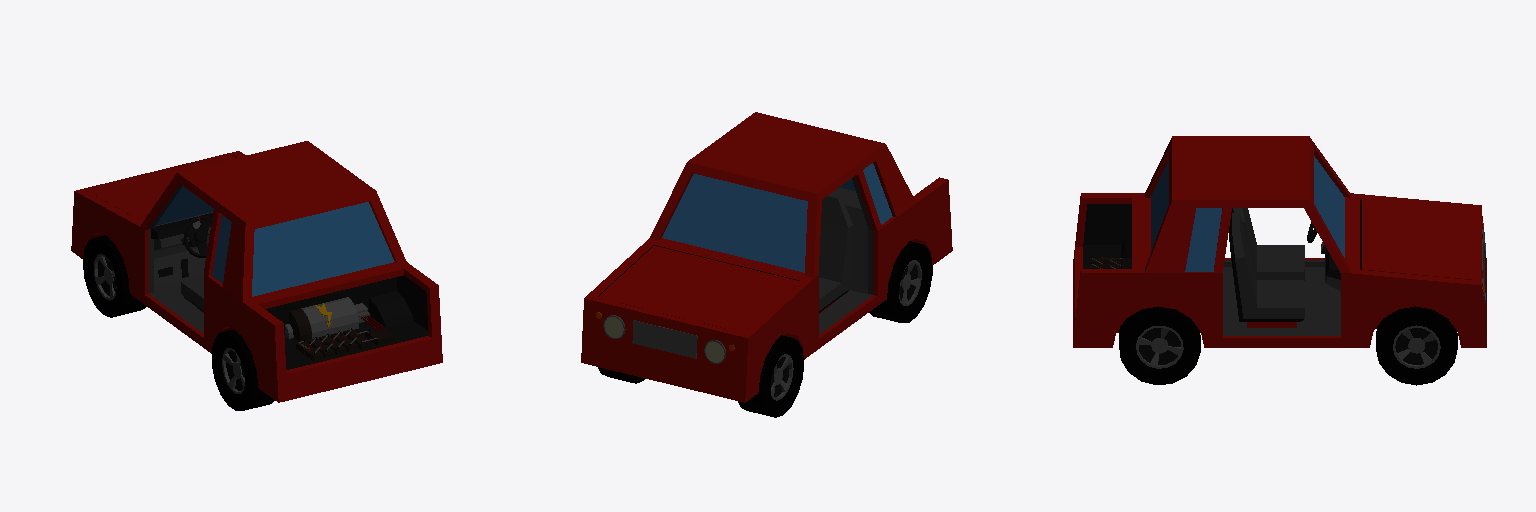
Rendered from car_better.obj.
3 renders of one model, left to right at view 1: azimuth 30°, elevation 25°; view 2: azimuth 150°, elevation 25°; view 3: azimuth 270°, elevation 25°, orthographic.
Visible parts, largest first — view 1: car-normal-red_Cube.623; view 2: car-normal-red_Cube.623; view 3: car-normal-red_Cube.623.
Part boxes in pixels (x1,y1,x2,y2): car-normal-red_Cube.623: (71, 141, 442, 410); car-normal-red_Cube.623: (581, 112, 952, 417); car-normal-red_Cube.623: (1073, 136, 1486, 385).
Size of the model in its own units: 0.8525 by 0.8549 by 1.82.